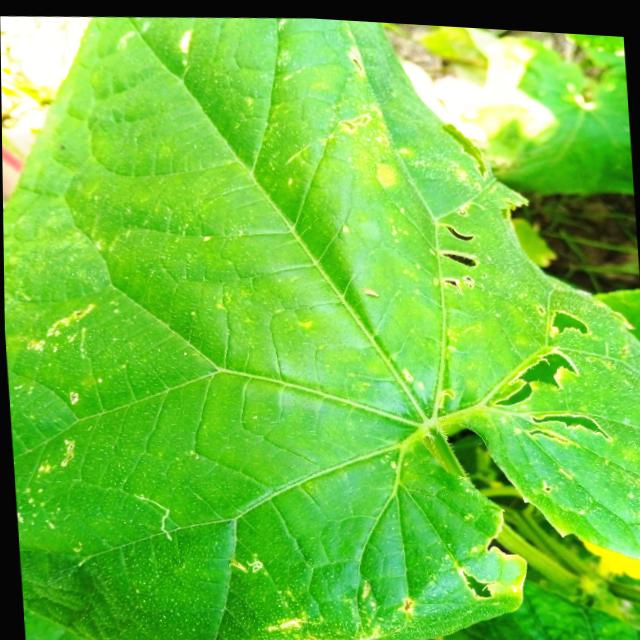Anthracnose: (484, 291, 616, 460), (432, 200, 485, 310), (451, 556, 498, 616)
